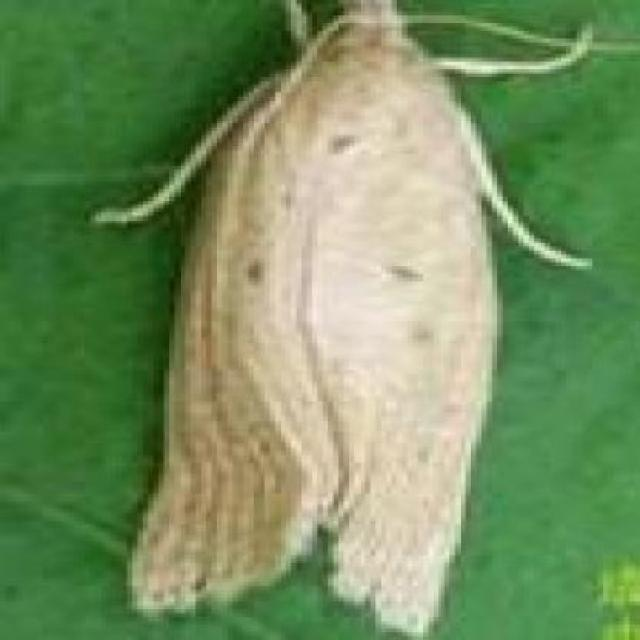stem-borer: (91, 0, 577, 640)
